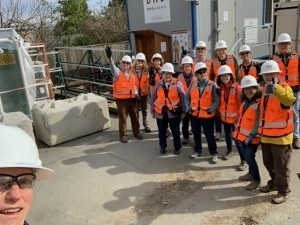helmet: (1, 126, 60, 177), (259, 61, 279, 75), (240, 77, 259, 90), (212, 39, 231, 50), (276, 32, 295, 43), (218, 64, 233, 76), (195, 63, 208, 74), (162, 62, 175, 72), (193, 41, 208, 49), (180, 57, 194, 65), (238, 45, 252, 53), (118, 54, 131, 62), (151, 52, 164, 60), (135, 52, 147, 60)
person with full safety: (258, 61, 296, 202), (105, 48, 144, 142), (236, 78, 264, 191), (191, 65, 220, 162), (154, 64, 181, 152), (217, 67, 242, 159), (273, 32, 299, 89), (210, 37, 236, 70), (239, 45, 257, 78)
person with partial safety: (176, 58, 192, 142), (133, 54, 150, 133), (191, 36, 210, 66)
safety vest: (258, 87, 294, 137), (236, 101, 261, 145), (216, 86, 241, 124), (273, 48, 299, 84), (190, 78, 213, 118), (154, 80, 179, 116), (110, 70, 136, 99), (240, 61, 258, 79), (214, 55, 233, 67)
